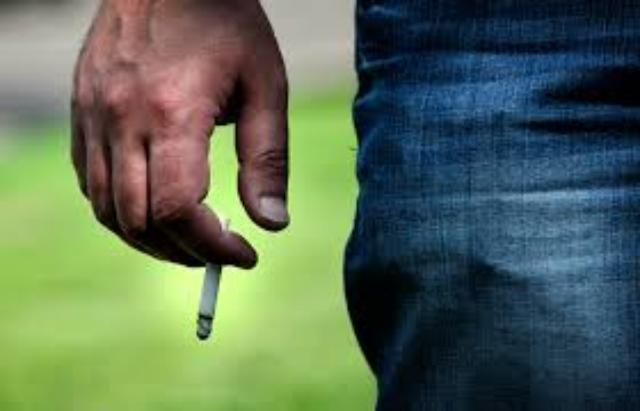Smoking: (196, 219, 232, 343)
